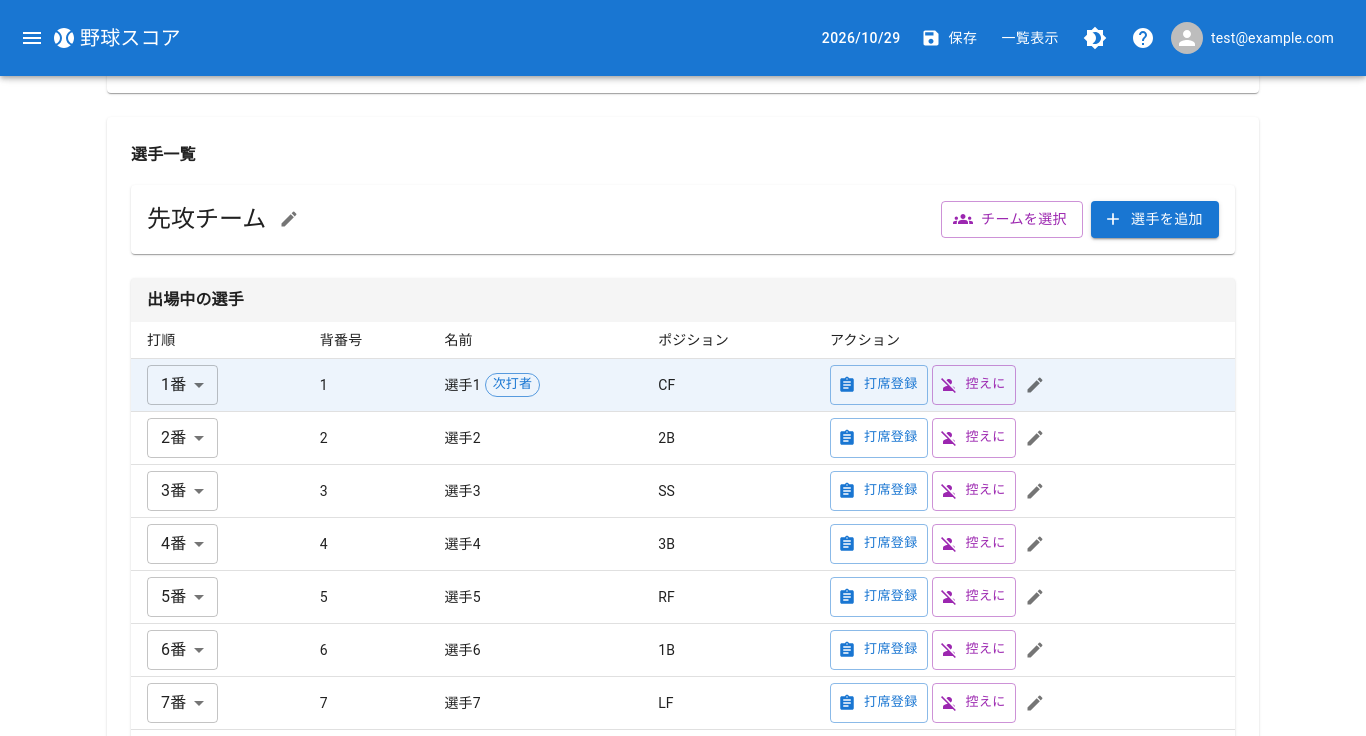
MainApp - 打席登録フロー › 打席結果を選ばずに登録することはできない
The image size is (1366, 736).
(page scrolled)
Click the button "打席登録" in the row of "選手1".
click(879, 384)  # box [830,364,928,404]
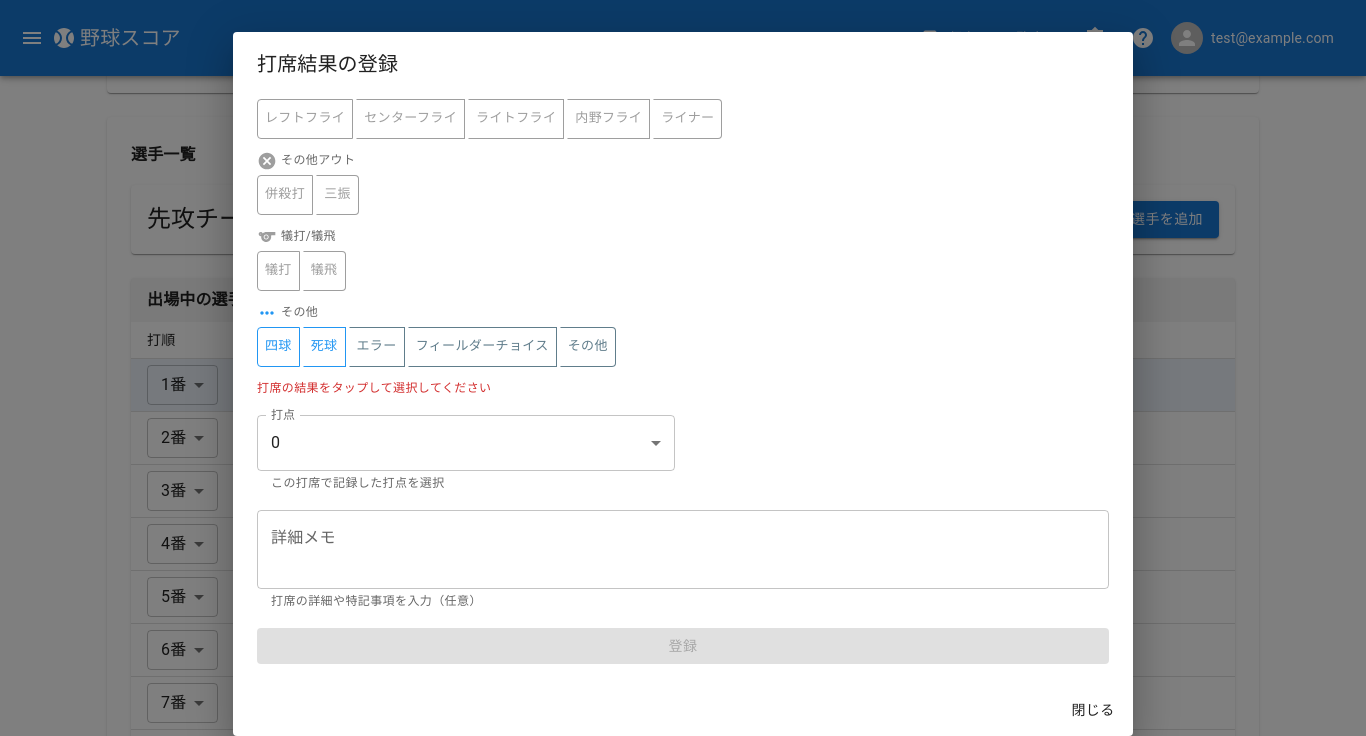
Now the button "登録" is disabled, box [257,628,1109,664]
